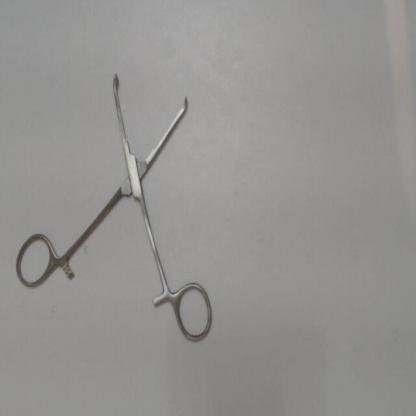Allis Tissue Forceps: (11, 65, 218, 350)
